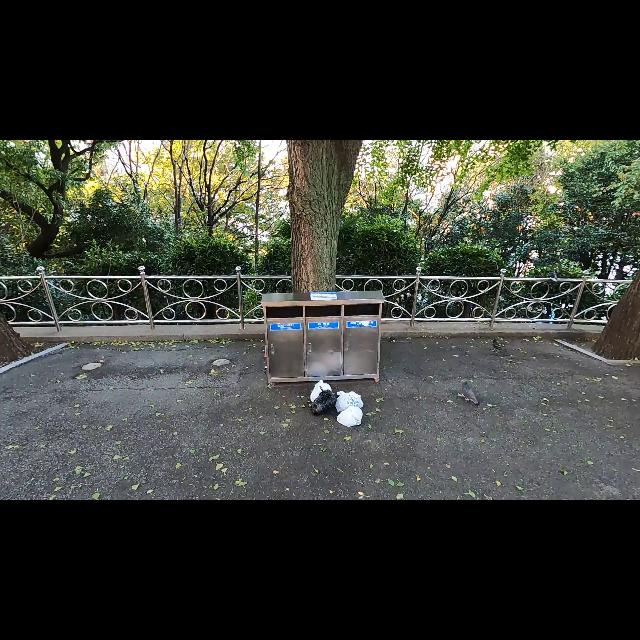trash: (309, 389, 339, 415), (334, 389, 364, 413), (336, 405, 364, 429), (312, 381, 332, 404)
